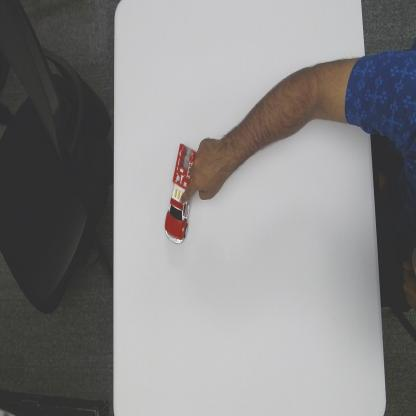Arm: (230, 51, 373, 175)
Firetruck: (163, 141, 195, 245)
Hand: (182, 136, 224, 202)
